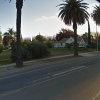Palm tree: (56, 0, 100, 63)
